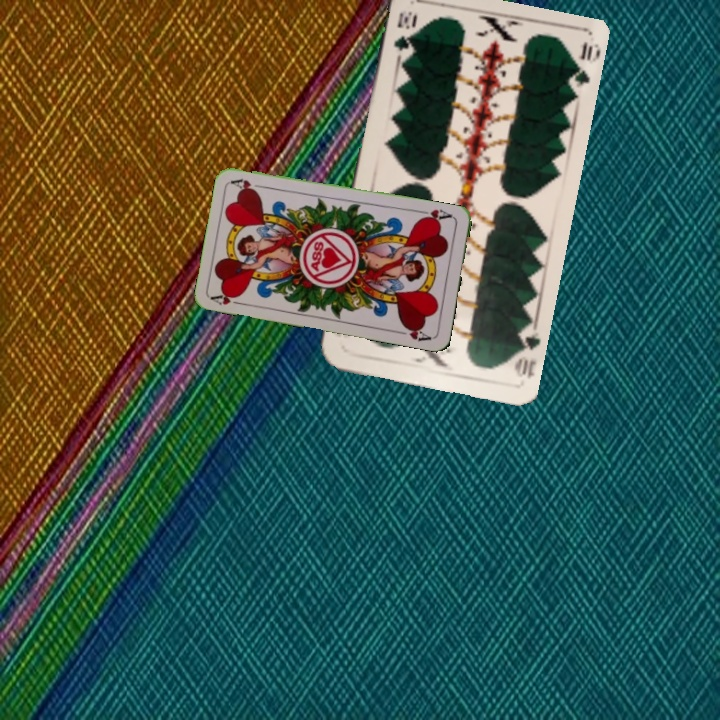G10: (510, 323, 543, 381), (389, 7, 418, 54)
HA: (415, 205, 456, 225), (208, 288, 248, 308)
